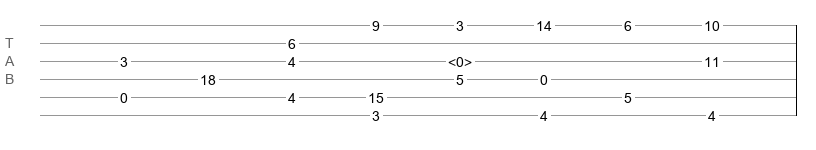0: (120, 90, 128, 100), (540, 72, 548, 82)
10: (704, 18, 720, 28)
11: (704, 54, 720, 64)
14: (536, 18, 552, 28)
15: (368, 90, 384, 100)
18: (200, 72, 216, 82)
3: (120, 54, 128, 64), (372, 108, 380, 118), (456, 18, 464, 28)
4: (288, 54, 296, 64), (288, 90, 296, 100), (540, 108, 548, 118), (708, 108, 716, 118)
5: (456, 72, 464, 82), (624, 90, 632, 100)
6: (288, 36, 296, 46), (624, 18, 632, 28)
9: (372, 18, 380, 28)
harmonic: (448, 54, 472, 64)
